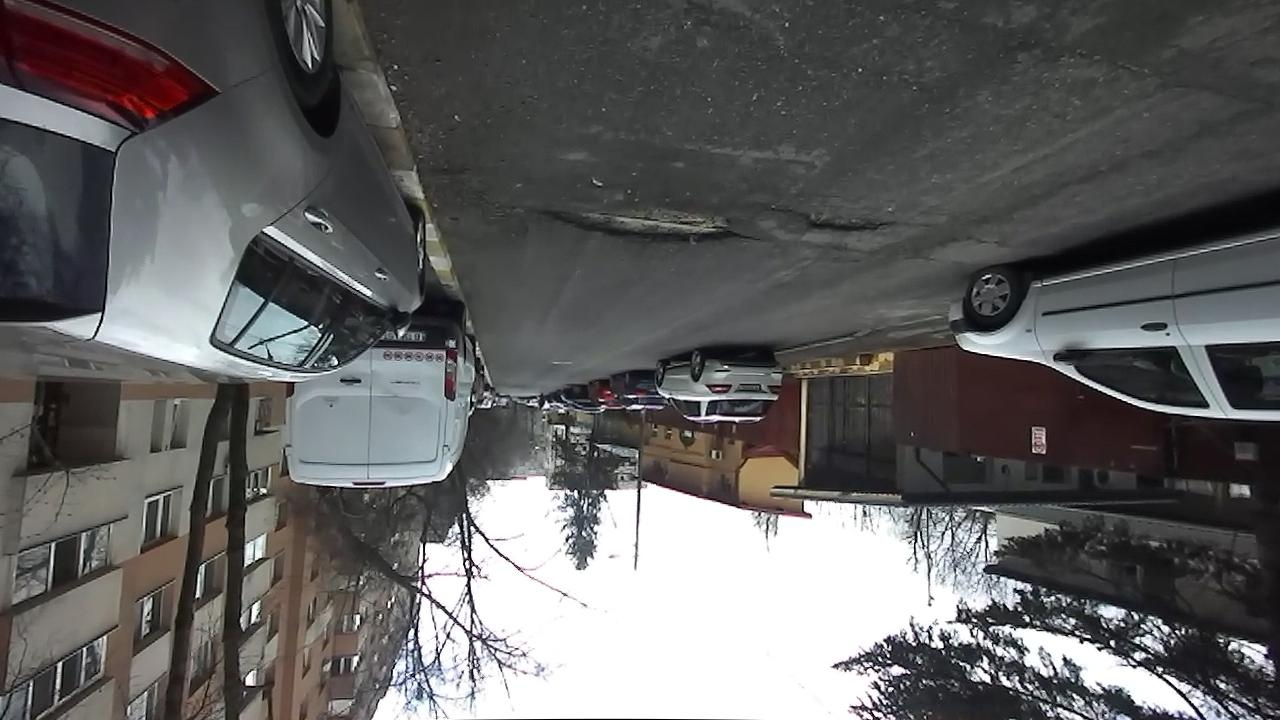pothole: (527, 197, 761, 248), (768, 204, 900, 236)
